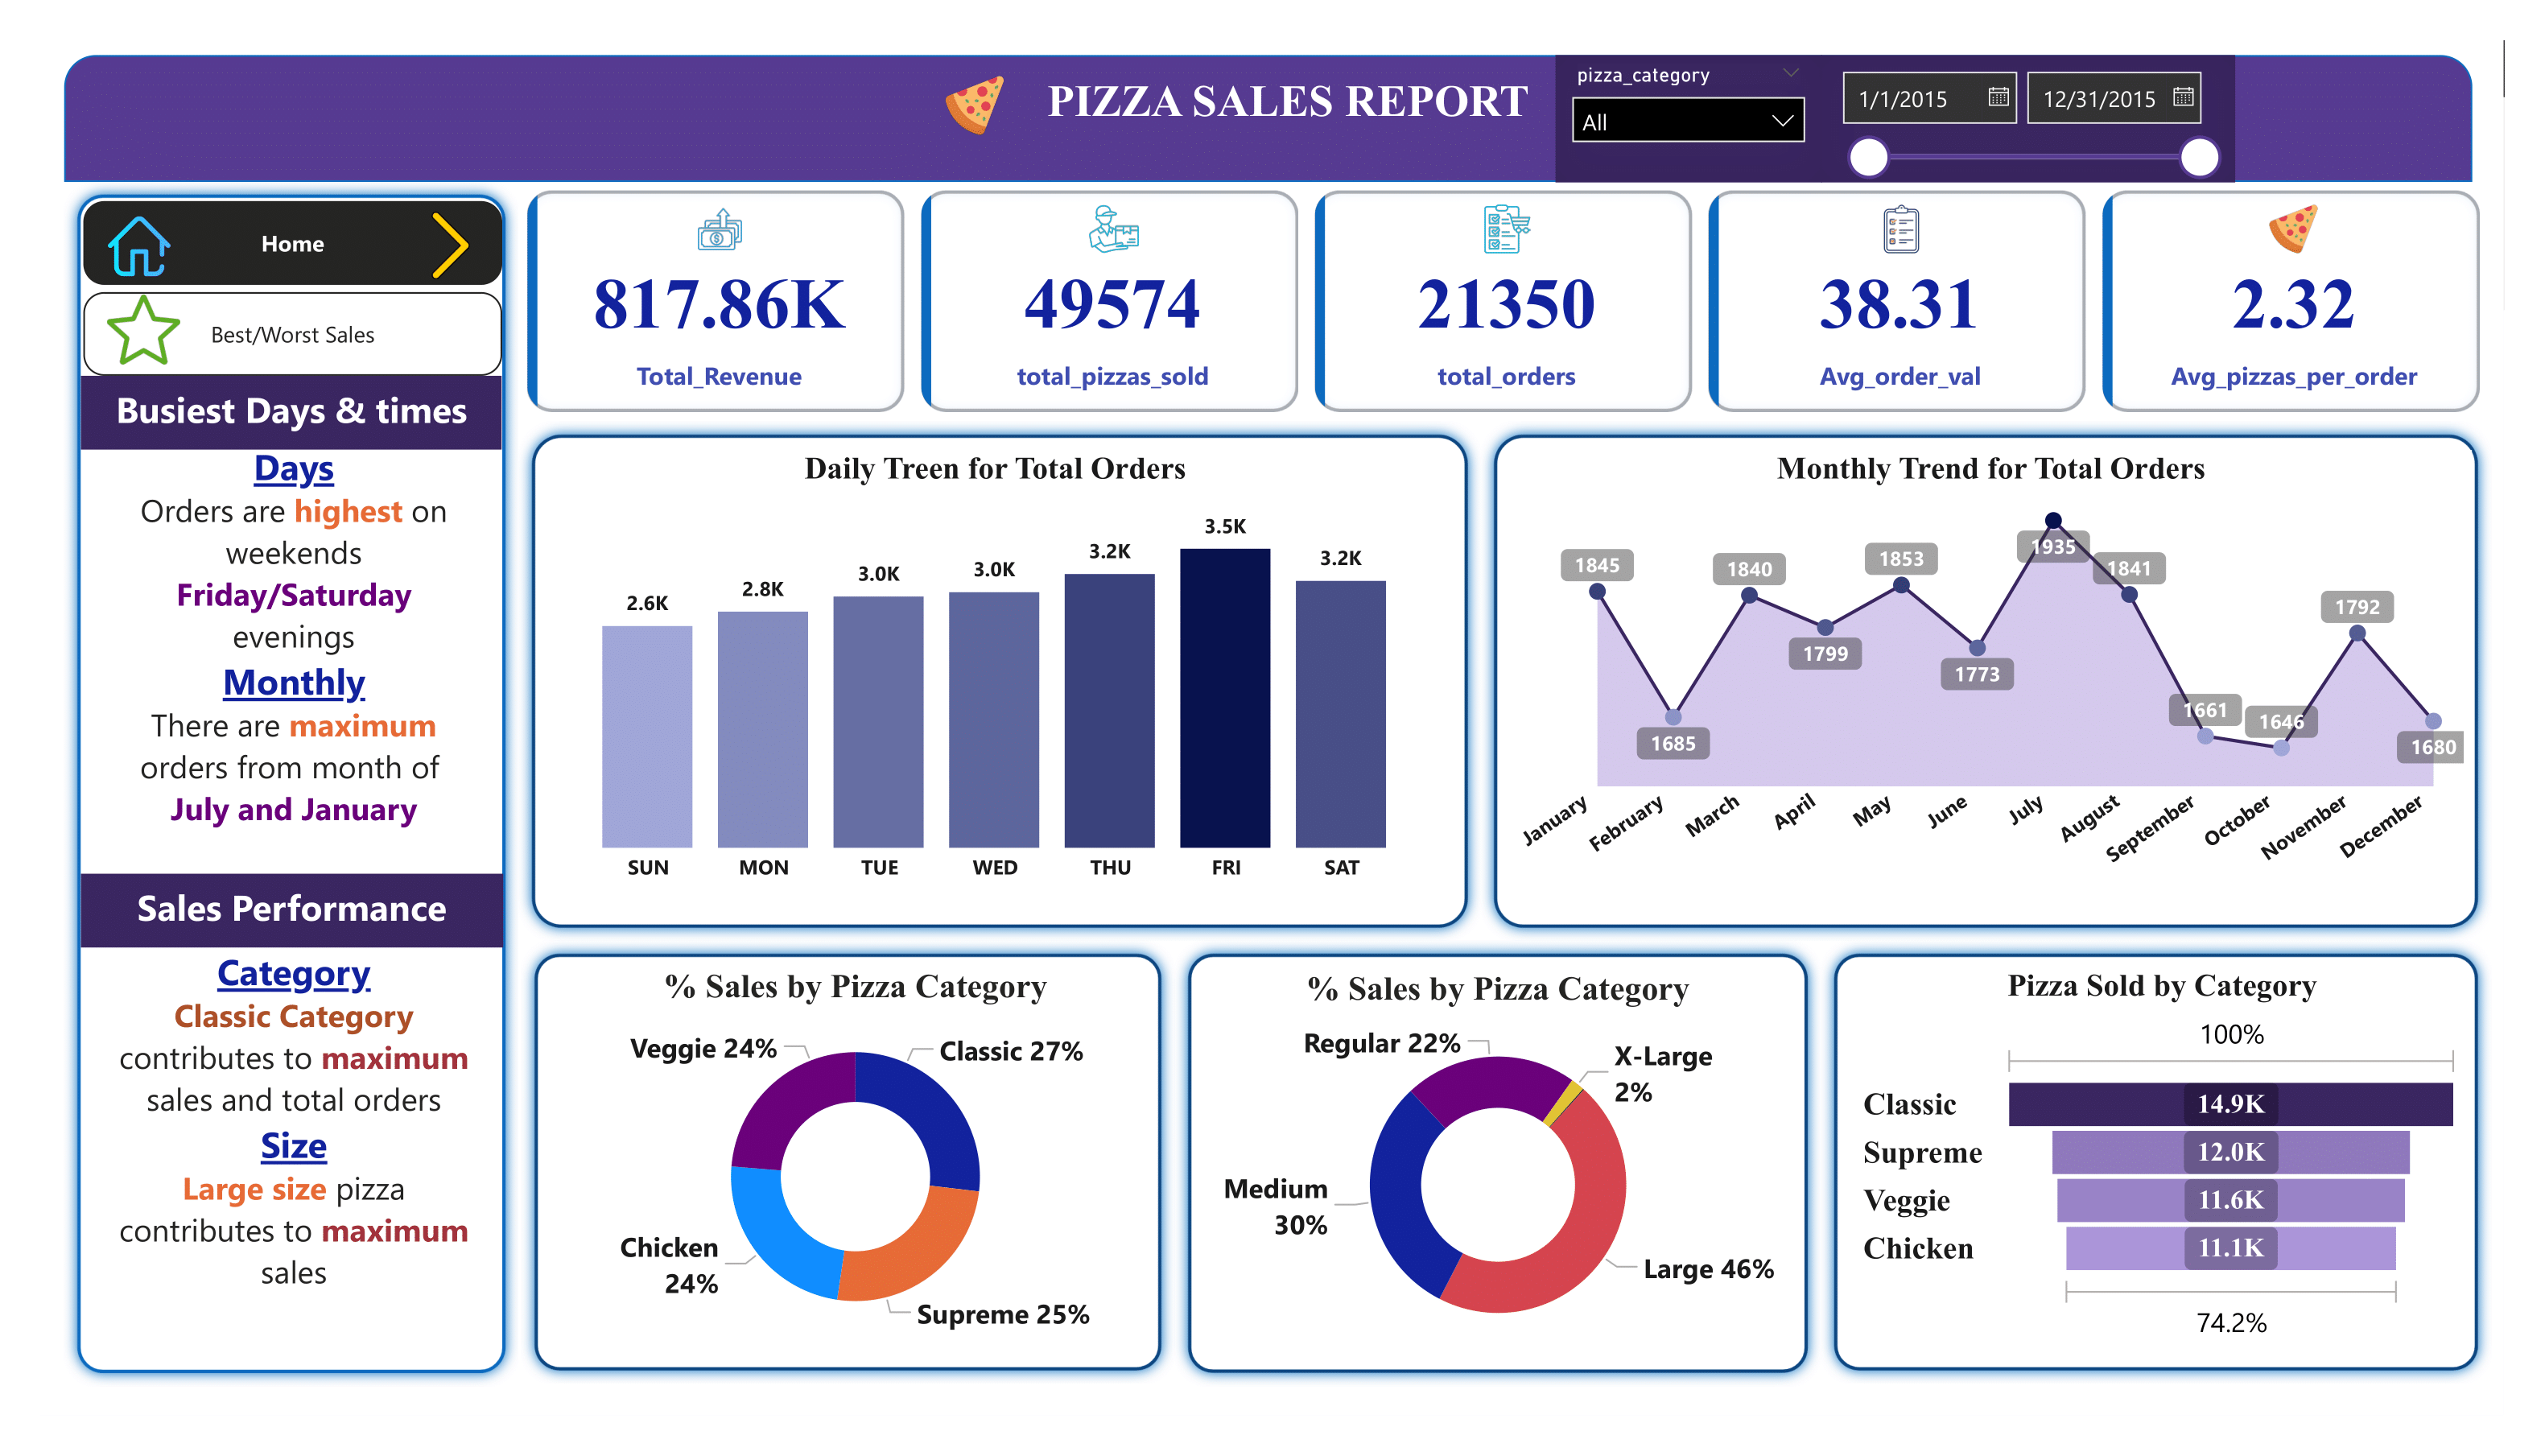

The dashboard page shown, as its layout file describes it:
{"tool":"powerbi","page":{"name":"Home","canvas":[1470,820],"ordinal":0},"visuals":[{"type":"shape","box":[14.3,8.6,1437.1,75.7],"z":0},{"type":"shape","box":[860,227.1,602.9,310],"z":0,"group":"g4"},{"type":"shape","box":[287.1,537.1,390,264.3],"z":0,"group":"g3"},{"type":"shape","box":[677.1,537.1,385.7,265.7],"z":0,"group":"g5"},{"type":"shape","box":[1062.9,537.1,400,264.3],"z":500,"group":"g2"},{"type":"shape","box":[14.3,84.3,271.4,718.6],"z":1000},{"type":"lineChart","title":"Monthly Trend for Total Orders","fields":{"Category":["pizza_sales.order_date.Variation.Date Hierarchy.Month"],"Y":["MyCalculation.total_orders"]},"box":[877.1,244,574.3,267.1],"z":1000,"group":"g4"},{"type":"funnel","title":"Pizza Sold by Category","fields":{"Category":["pizza_sales.pizza_category"],"Y":["MyCalculation.total_pizzas_sold"]},"box":[1083.1,553.3,367.1,228.7],"z":1500,"group":"g2"},{"type":"cardVisual","fields":{"Data":["MyCalculation.Total_Revenue","MyCalculation.total_pizzas_sold","MyCalculation.total_orders","MyCalculation.Avg_order_val","MyCalculation.Avg_pizzas_per_order"]},"box":[285.7,84.3,1177.1,142.9],"z":2000},{"type":"group","id":"g1","title":"Group 1","box":[285.7,227.1,574.3,310],"z":3000},{"type":"shape","box":[285.7,227.1,574.3,310],"z":4000,"group":"g1"},{"type":"group","id":"g2","title":"Group 2","box":[1062.9,537.1,400,264.3],"z":4000},{"type":"columnChart","title":"Daily Treen for Total Orders","fields":{"Category":["pizza_sales.day_name"],"Y":["MyCalculation.total_orders"]},"box":[303.3,244,534.3,267.1],"z":5000,"group":"g1"},{"type":"group","id":"g3","title":"Group 2","box":[287.1,537.1,390,264.3],"z":5000},{"type":"group","id":"g4","title":"Group 2","box":[860,227.1,602.9,310],"z":6000},{"type":"group","id":"g5","title":"Group 2","box":[677.1,537.1,385.7,265.7],"z":7000,"group":"g6"},{"type":"donutChart","title":"% Sales by Pizza Category","fields":{"Category":["pizza_sales.pizza_category"],"Y":["MyCalculation.Total_Revenue"]},"box":[314.2,553.4,344.5,227.7],"z":7000},{"type":"textbox","box":[595.7,15.7,310,45.7],"z":8000},{"type":"image","box":[495.7,15.7,124.3,45.7],"z":9000},{"type":"donutChart","title":"% Sales by Pizza Category","fields":{"Y":["MyCalculation.Total_Revenue"],"Category":["pizza_sales.pizza_size"]},"box":[697.1,554.9,345.7,234.5],"z":9000,"group":"g6"},{"type":"textbox","box":[35.7,518.6,231.4,261.4],"z":10000},{"type":"textbox","box":[35.7,217.1,231.4,291.4],"z":11000},{"type":"textbox","box":[24.3,200,251.4,44.3],"z":12000},{"type":"slicer","fields":{"Values":["pizza_sales.pizza_category"]},"box":[904.3,8.6,158.6,75.7],"z":13000},{"type":"textbox","box":[24.3,497.1,252,44.3],"z":14000},{"type":"group","id":"g6","title":"Group 4","box":[677.1,537.1,385.7,265.7],"z":15000},{"type":"pageNavigator","box":[25.7,150,250,50],"z":16000},{"type":"slicer","fields":{"Values":["pizza_sales.order_date"]},"box":[1062.9,8.6,247.1,75.7],"z":17000},{"type":"pageNavigator","box":[25.7,95.7,250,50],"z":18000},{"type":"image","box":[35.7,74.3,47.1,97.1],"z":19000},{"type":"image","box":[202.9,97.1,84.3,50],"z":21500},{"type":"image","box":[34.3,145.7,55.7,52.9],"z":21501}]}

Visuals, with their boxes in screenshot pixels (x1, y1, x2, y2):
shape: x1=76, y1=54, x2=2444, y2=179
shape: x1=1470, y1=414, x2=2462, y2=924
shape: x1=526, y1=924, x2=1168, y2=1359
shape: x1=1168, y1=924, x2=1803, y2=1362
shape: x1=1804, y1=924, x2=2462, y2=1359
shape: x1=76, y1=179, x2=523, y2=1362
"Monthly Trend for Total Orders" lineChart: x1=1497, y1=442, x2=2444, y2=881
"Pizza Sold by Category" funnel: x1=1837, y1=951, x2=2441, y2=1327
cardVisual - MyCalculation.Total_Revenue x MyCalculation.total_pizzas_sold: x1=523, y1=179, x2=2462, y2=414
"Group 1" group: x1=523, y1=414, x2=1470, y2=924
shape: x1=523, y1=414, x2=1470, y2=924
"Group 2" group: x1=1804, y1=924, x2=2462, y2=1359
"Daily Treen for Total Orders" columnChart: x1=552, y1=442, x2=1433, y2=881
"Group 2" group: x1=526, y1=924, x2=1168, y2=1359
"Group 2" group: x1=1470, y1=414, x2=2462, y2=924
"Group 2" group: x1=1168, y1=924, x2=1803, y2=1362
"% Sales by Pizza Category" donutChart: x1=571, y1=951, x2=1138, y2=1326
textbox: x1=1034, y1=66, x2=1545, y2=141
image: x1=869, y1=66, x2=1074, y2=141
"% Sales by Pizza Category" donutChart: x1=1201, y1=954, x2=1771, y2=1340
textbox: x1=112, y1=894, x2=493, y2=1324
textbox: x1=112, y1=398, x2=493, y2=877
textbox: x1=93, y1=369, x2=507, y2=442
slicer - pizza_sales.pizza_category: x1=1542, y1=54, x2=1804, y2=179
textbox: x1=93, y1=859, x2=508, y2=931
"Group 4" group: x1=1168, y1=924, x2=1803, y2=1362
pageNavigator: x1=95, y1=287, x2=507, y2=369
slicer - pizza_sales.order_date: x1=1804, y1=54, x2=2210, y2=179
pageNavigator: x1=95, y1=197, x2=507, y2=280
image: x1=112, y1=162, x2=189, y2=322
image: x1=387, y1=200, x2=526, y2=282
image: x1=109, y1=280, x2=201, y2=367
